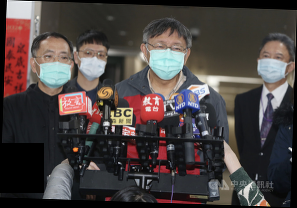with_mask: (147, 37, 187, 78), (36, 47, 74, 87), (259, 48, 290, 84), (78, 46, 108, 79)
